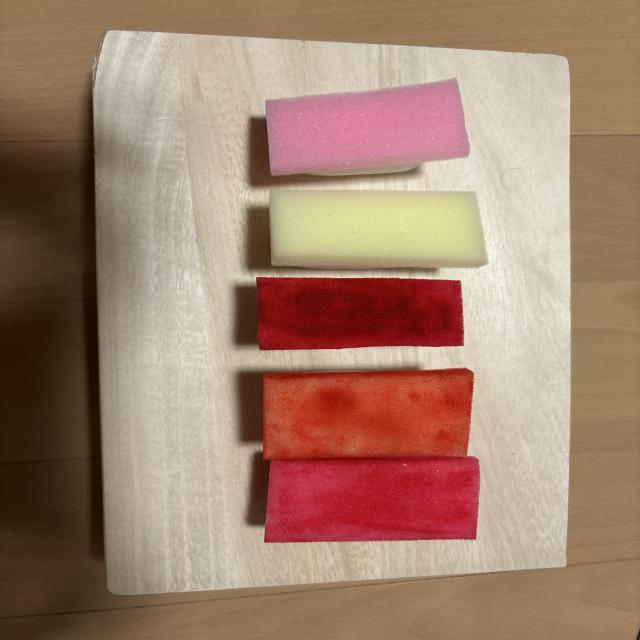maguro: (264, 457, 480, 543), (257, 278, 463, 350)
salmon: (263, 368, 474, 459)
tai: (266, 78, 469, 176)
tamago: (270, 190, 487, 268)
